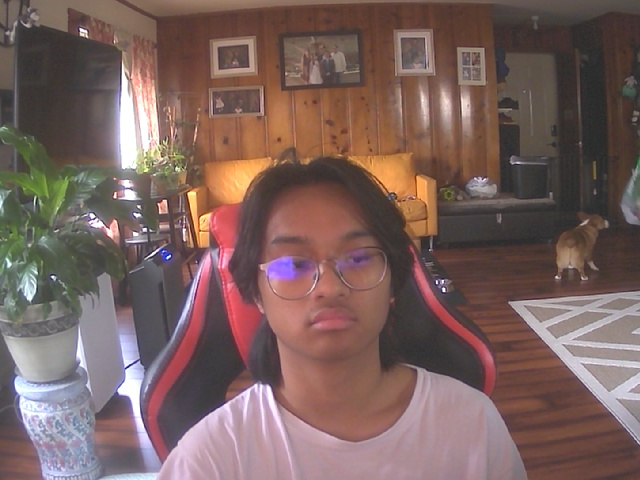neutral: (250, 165, 401, 364)
